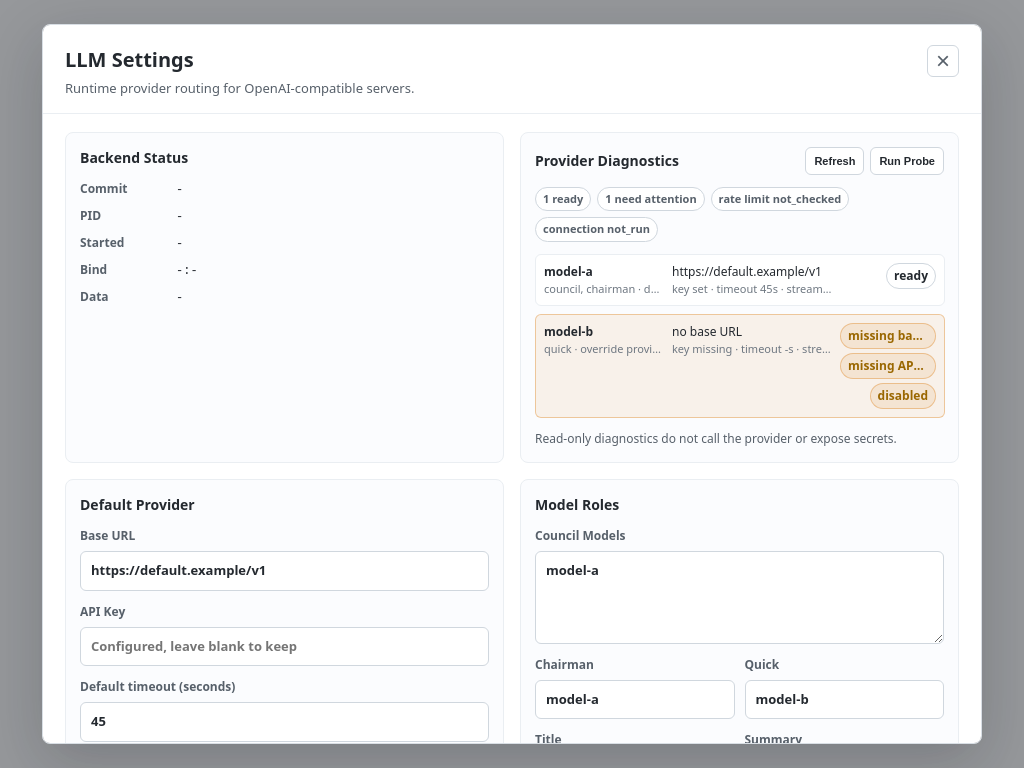
Test: LLMSettingsModal provider diagnostics › refreshes provider diagnostics on demand
Expected: the text "1 need attention" is shown, [597,186,705,211]
Click the button "Refresh" at {"x": 835, "y": 160}, box [805,146,864,174]
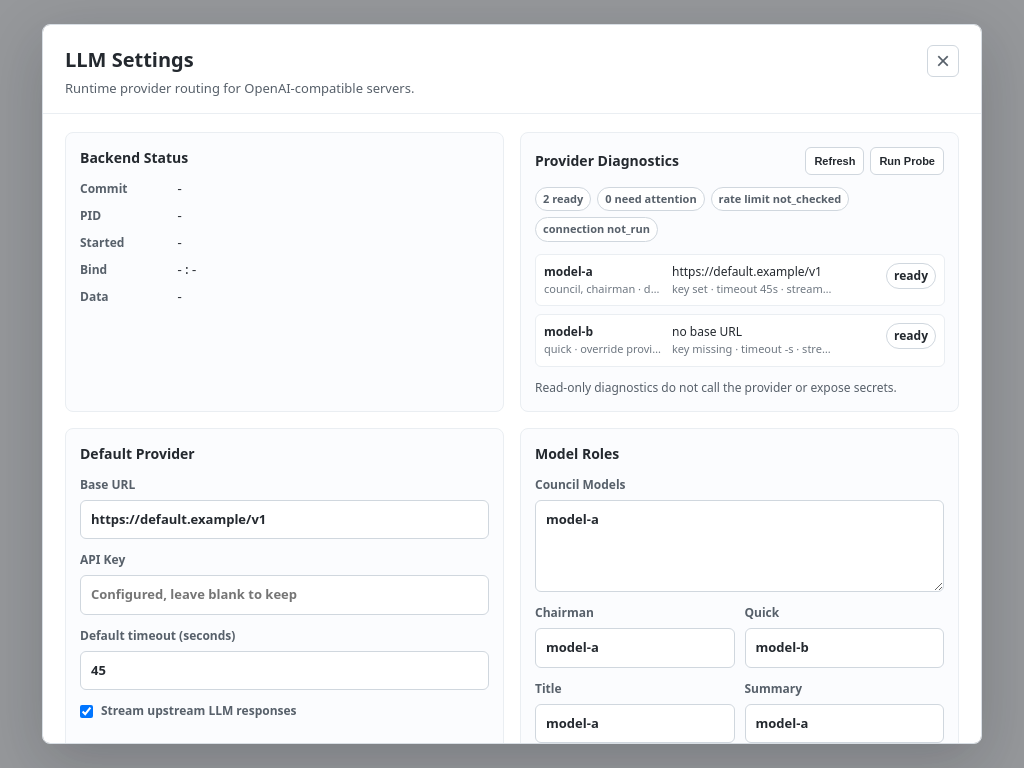
Now the text "2 ready" is shown, box [535,186,591,211]
